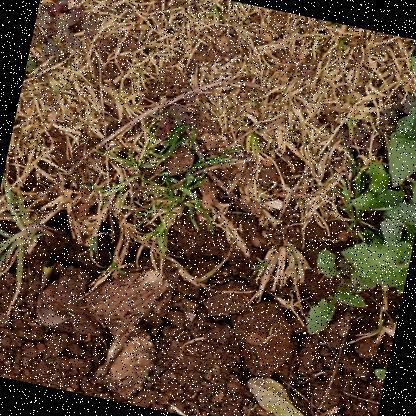Weeds: (294, 80, 415, 355)
